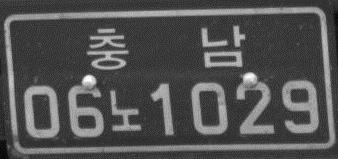0: (21, 82, 63, 144), (188, 79, 230, 135)
1: (150, 78, 179, 140)
2: (236, 76, 276, 137)
6: (66, 82, 105, 140)
9: (282, 76, 320, 137)
노: (106, 86, 144, 134)
충남_D: (85, 23, 246, 71)
